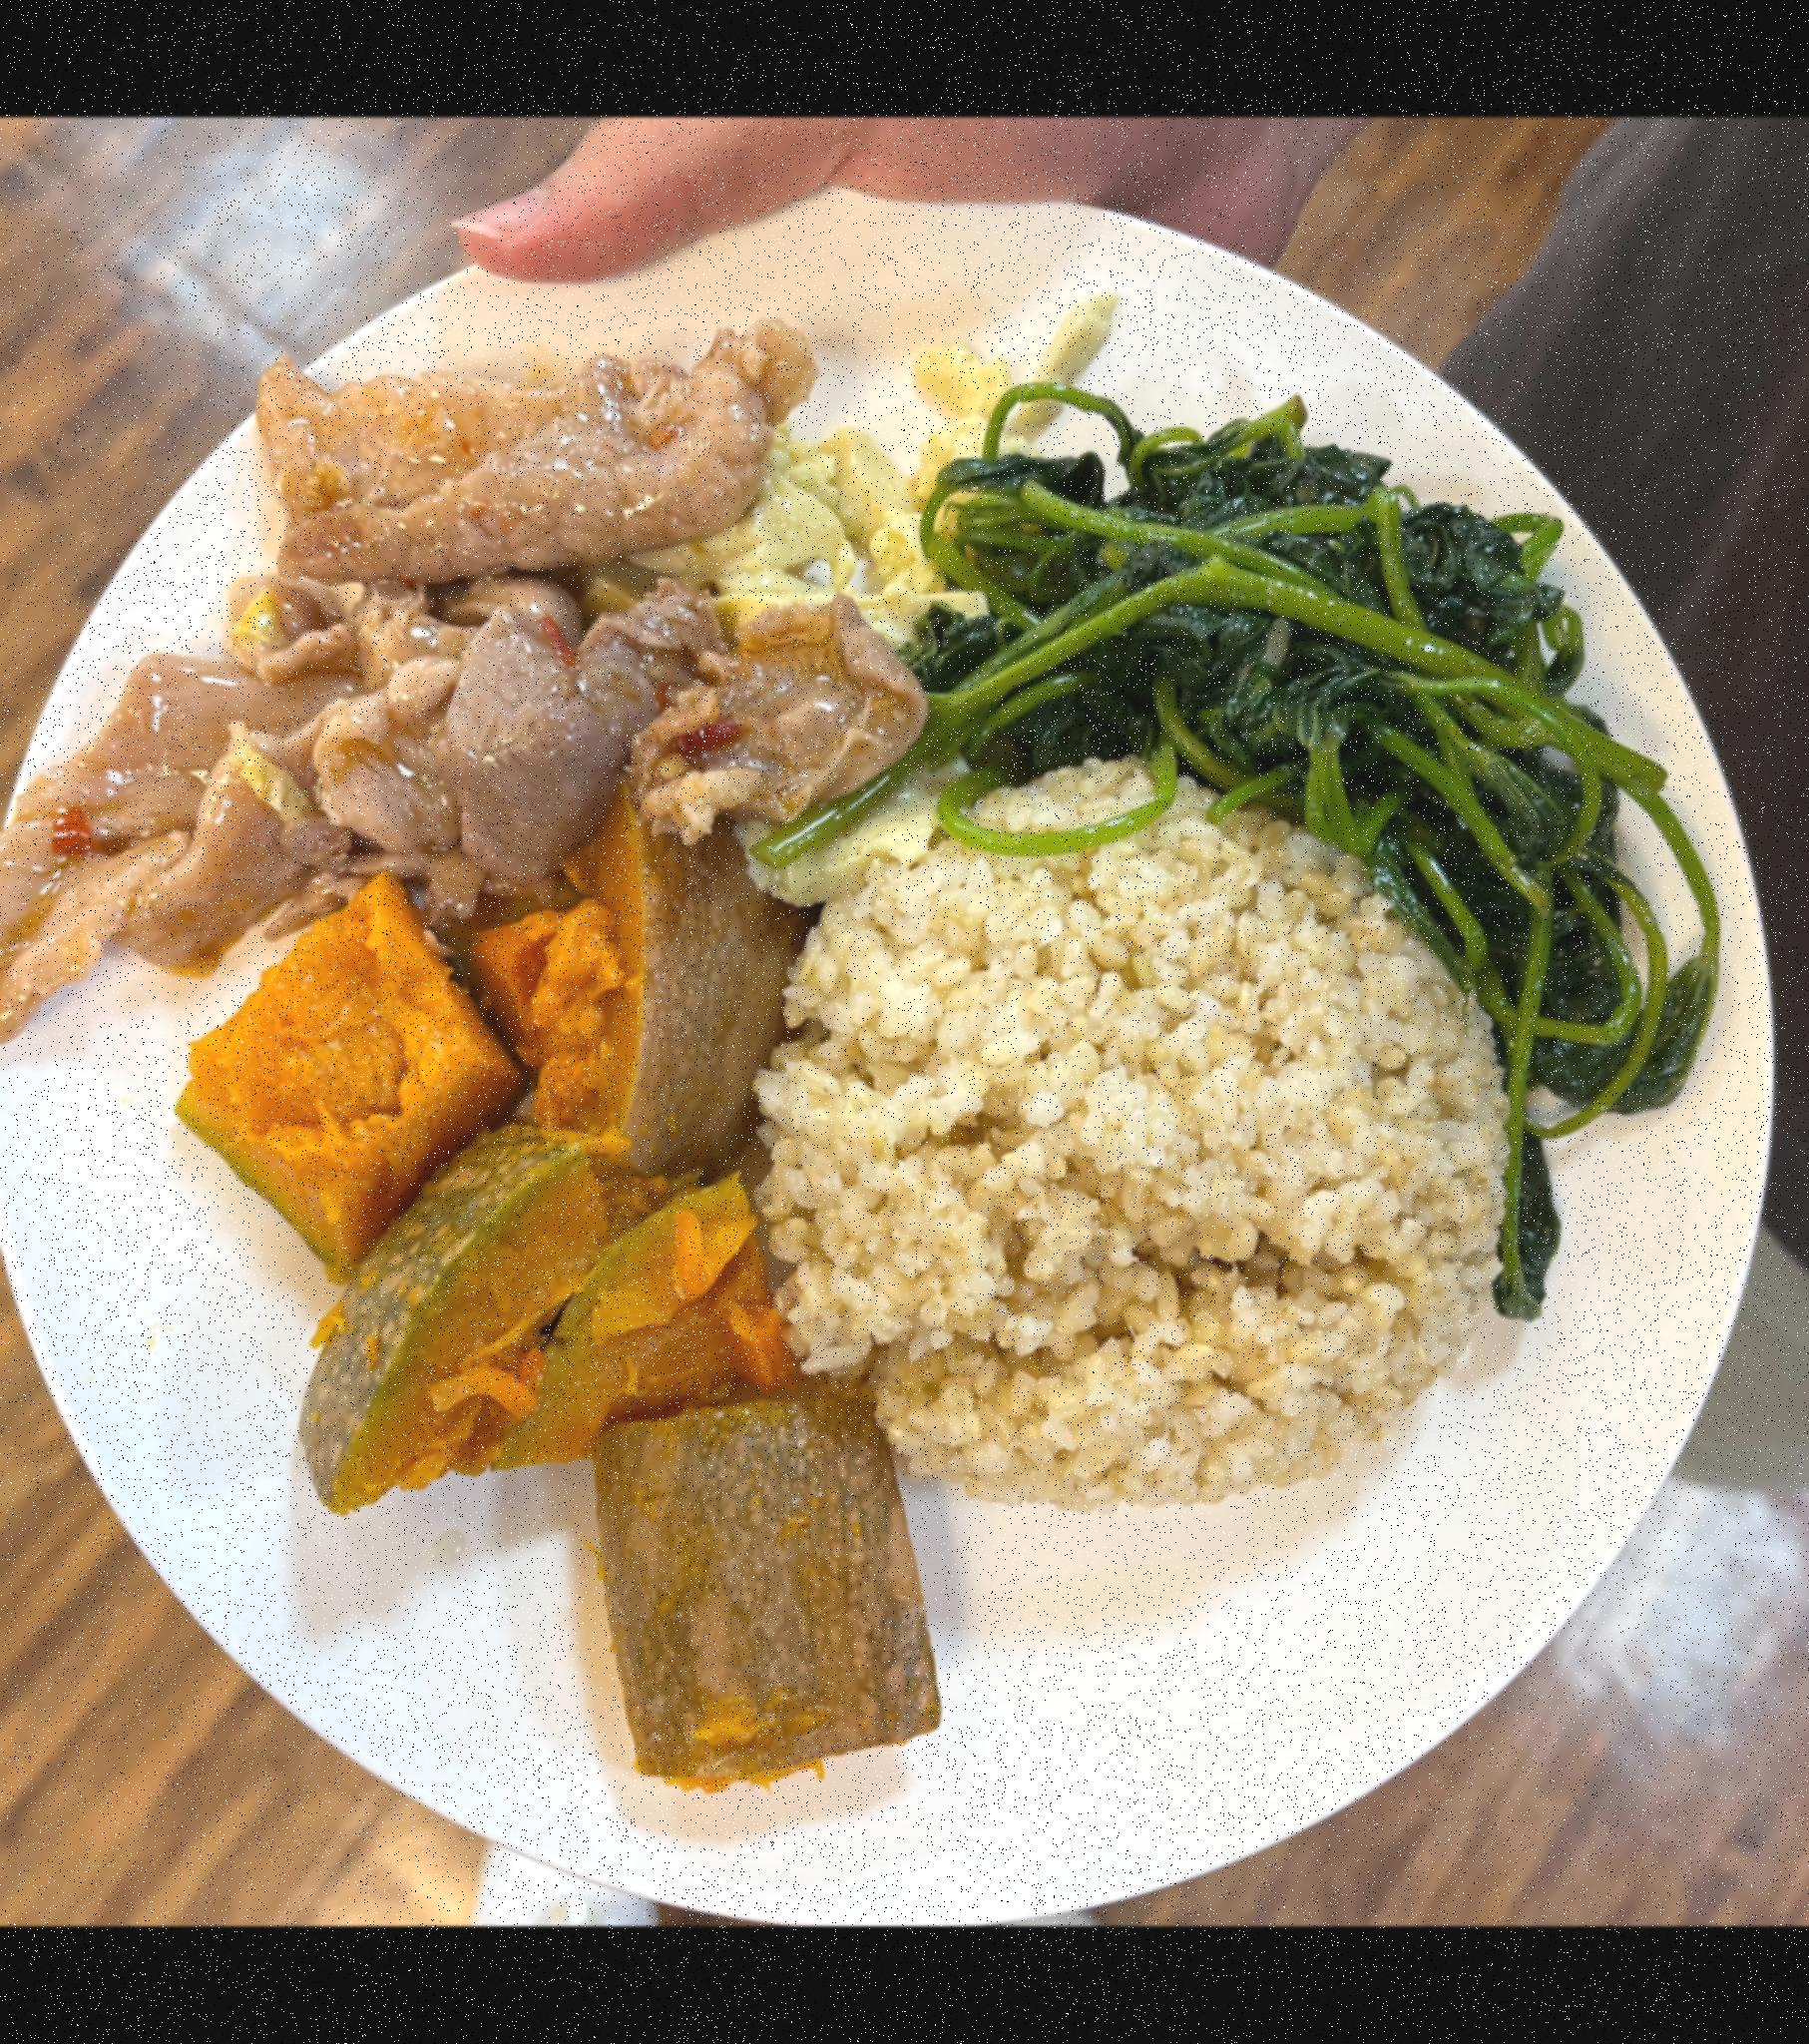brown rice: (746, 747, 1544, 1526)
plate: (0, 162, 1787, 1919)
side dish: (162, 818, 919, 1794), (902, 357, 1725, 1133)
thai pork: (0, 286, 839, 1051)
